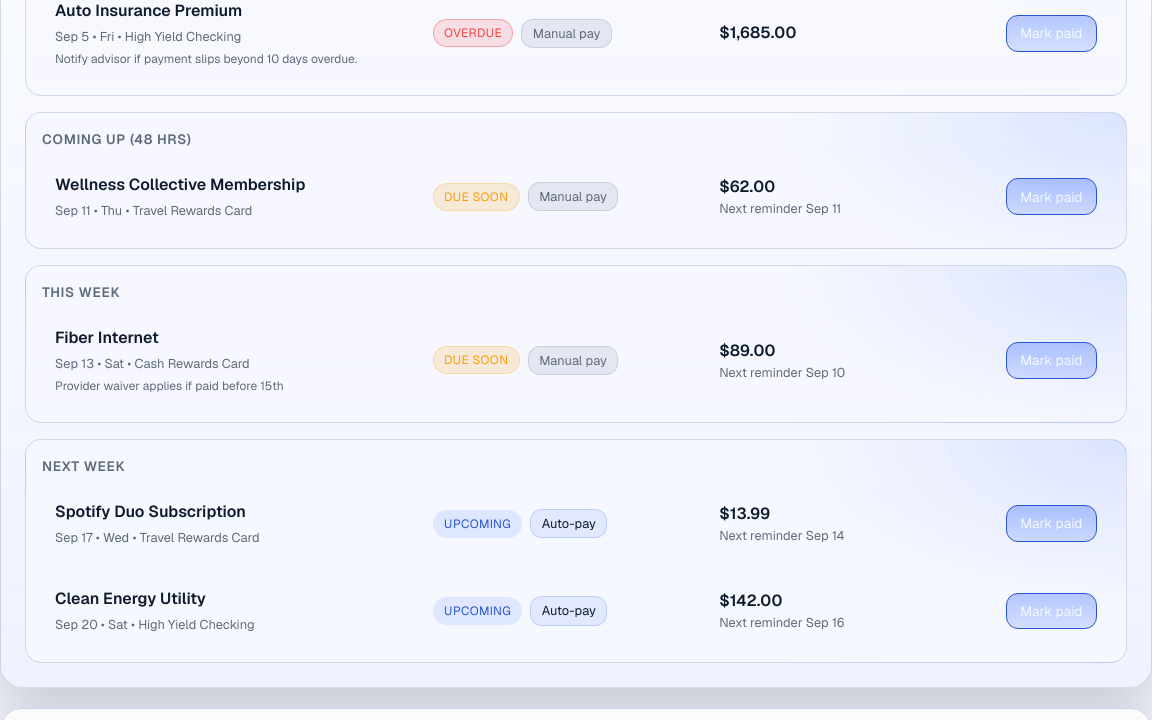
it: BillsSection › allows toggling a bill between due and paid states
The width and height of the screenshot is (1152, 720).
(page scrolled)
Click the button "Mark paid" in the row of "Cash Rewards Card" at coordinates (1051, 360), box [1006, 342, 1097, 379]
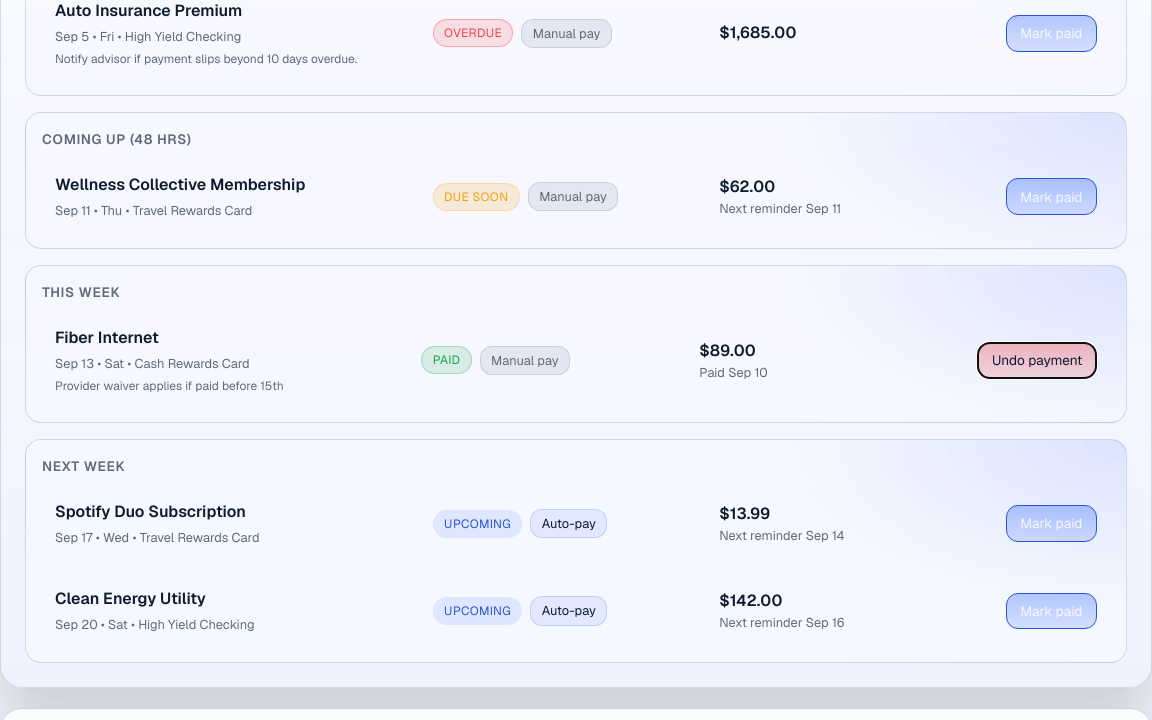
Check: the text "Paid" is shown, box [421, 346, 472, 374]
Click the button "Undo payment" at coordinates (1037, 360), box [977, 342, 1097, 379]
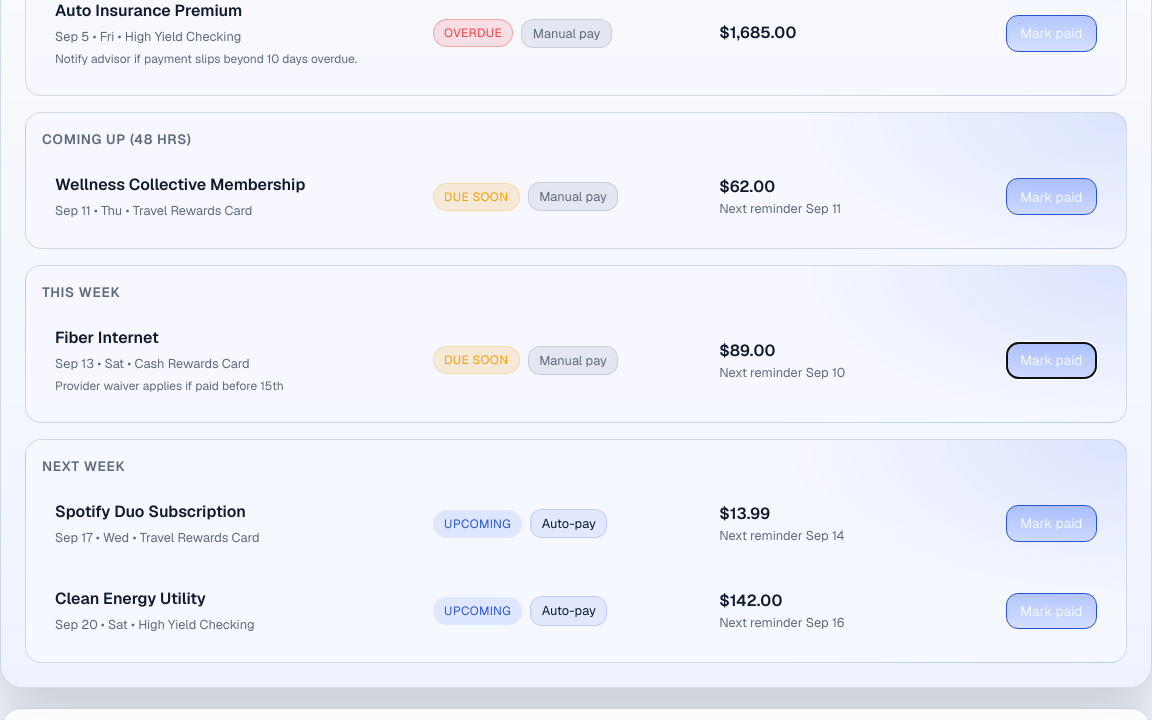
Check: the text "Due soon" in the row of "Cash Rewards Card" is shown, box [444, 352, 508, 368]
